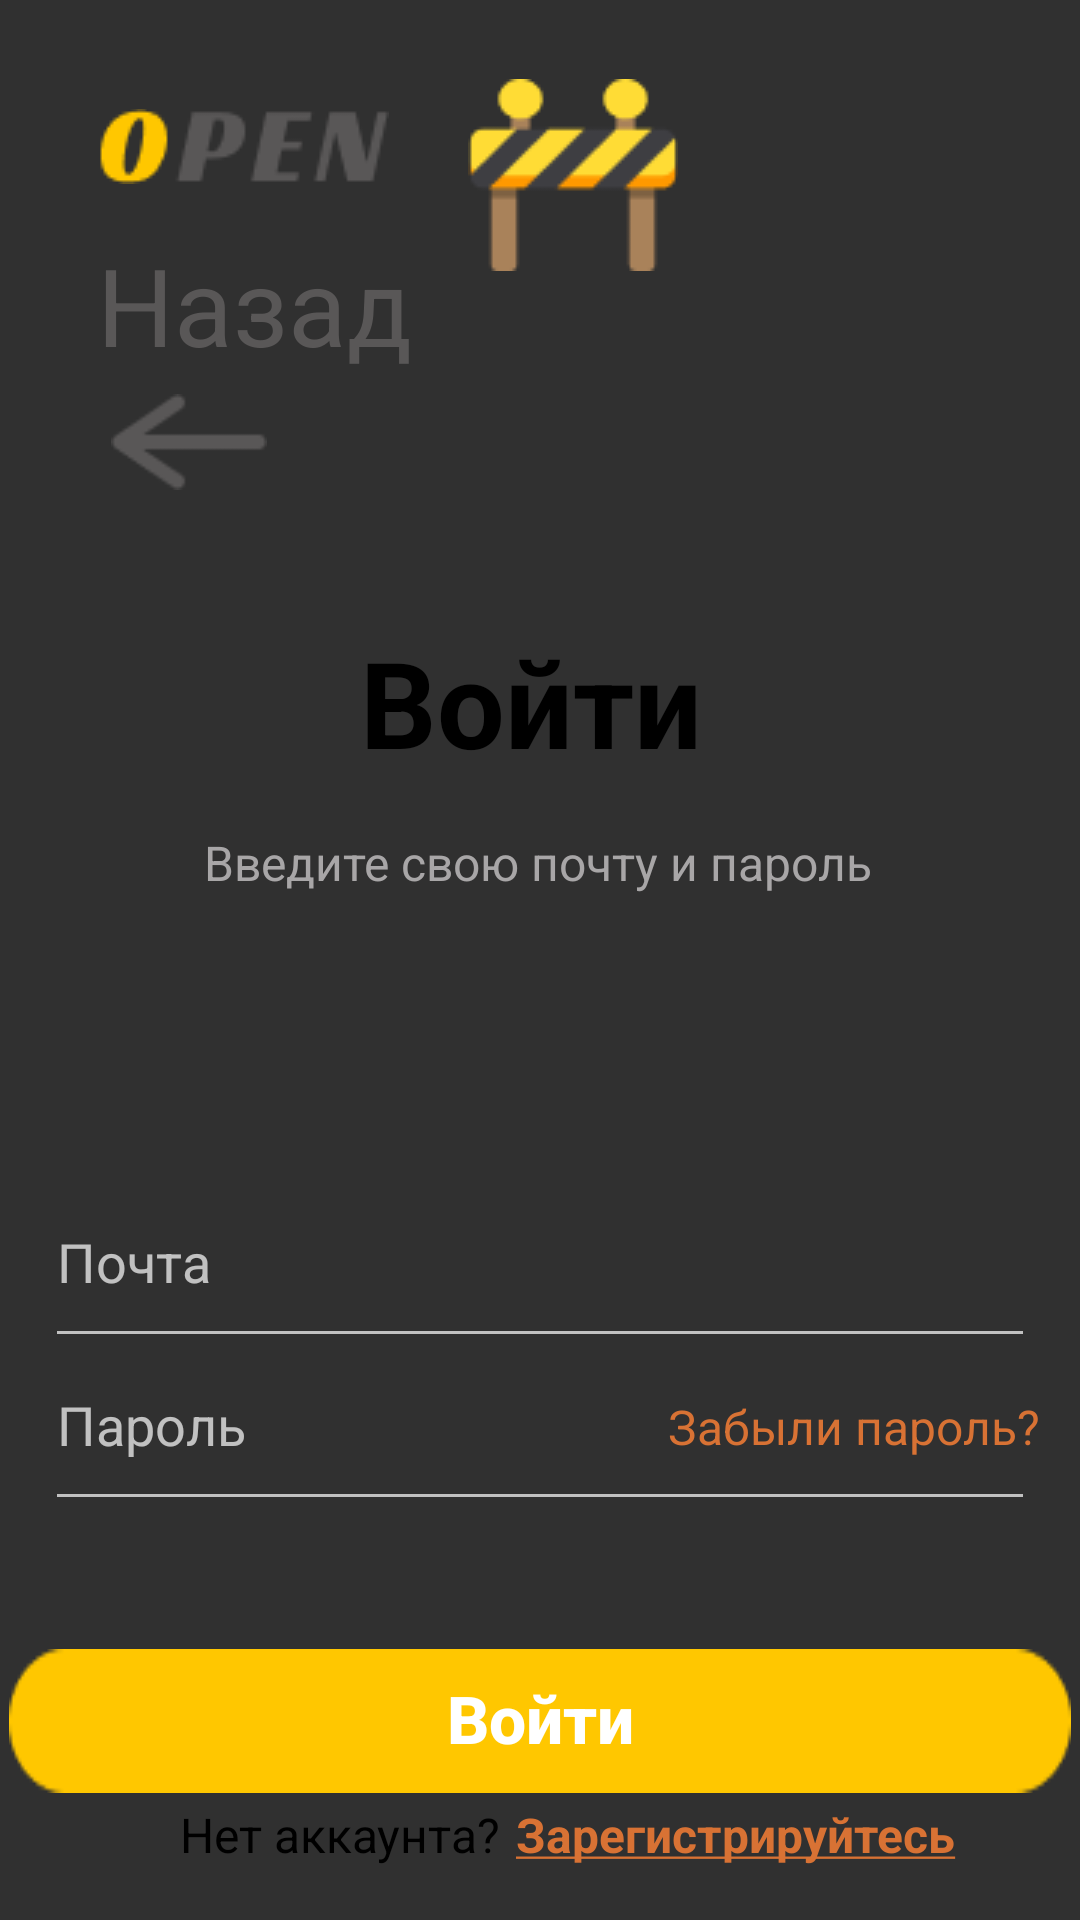

Screen size 1080px x 1920px. Icon name, then its center in pixels as (x,y):
barrier: (573,175)
